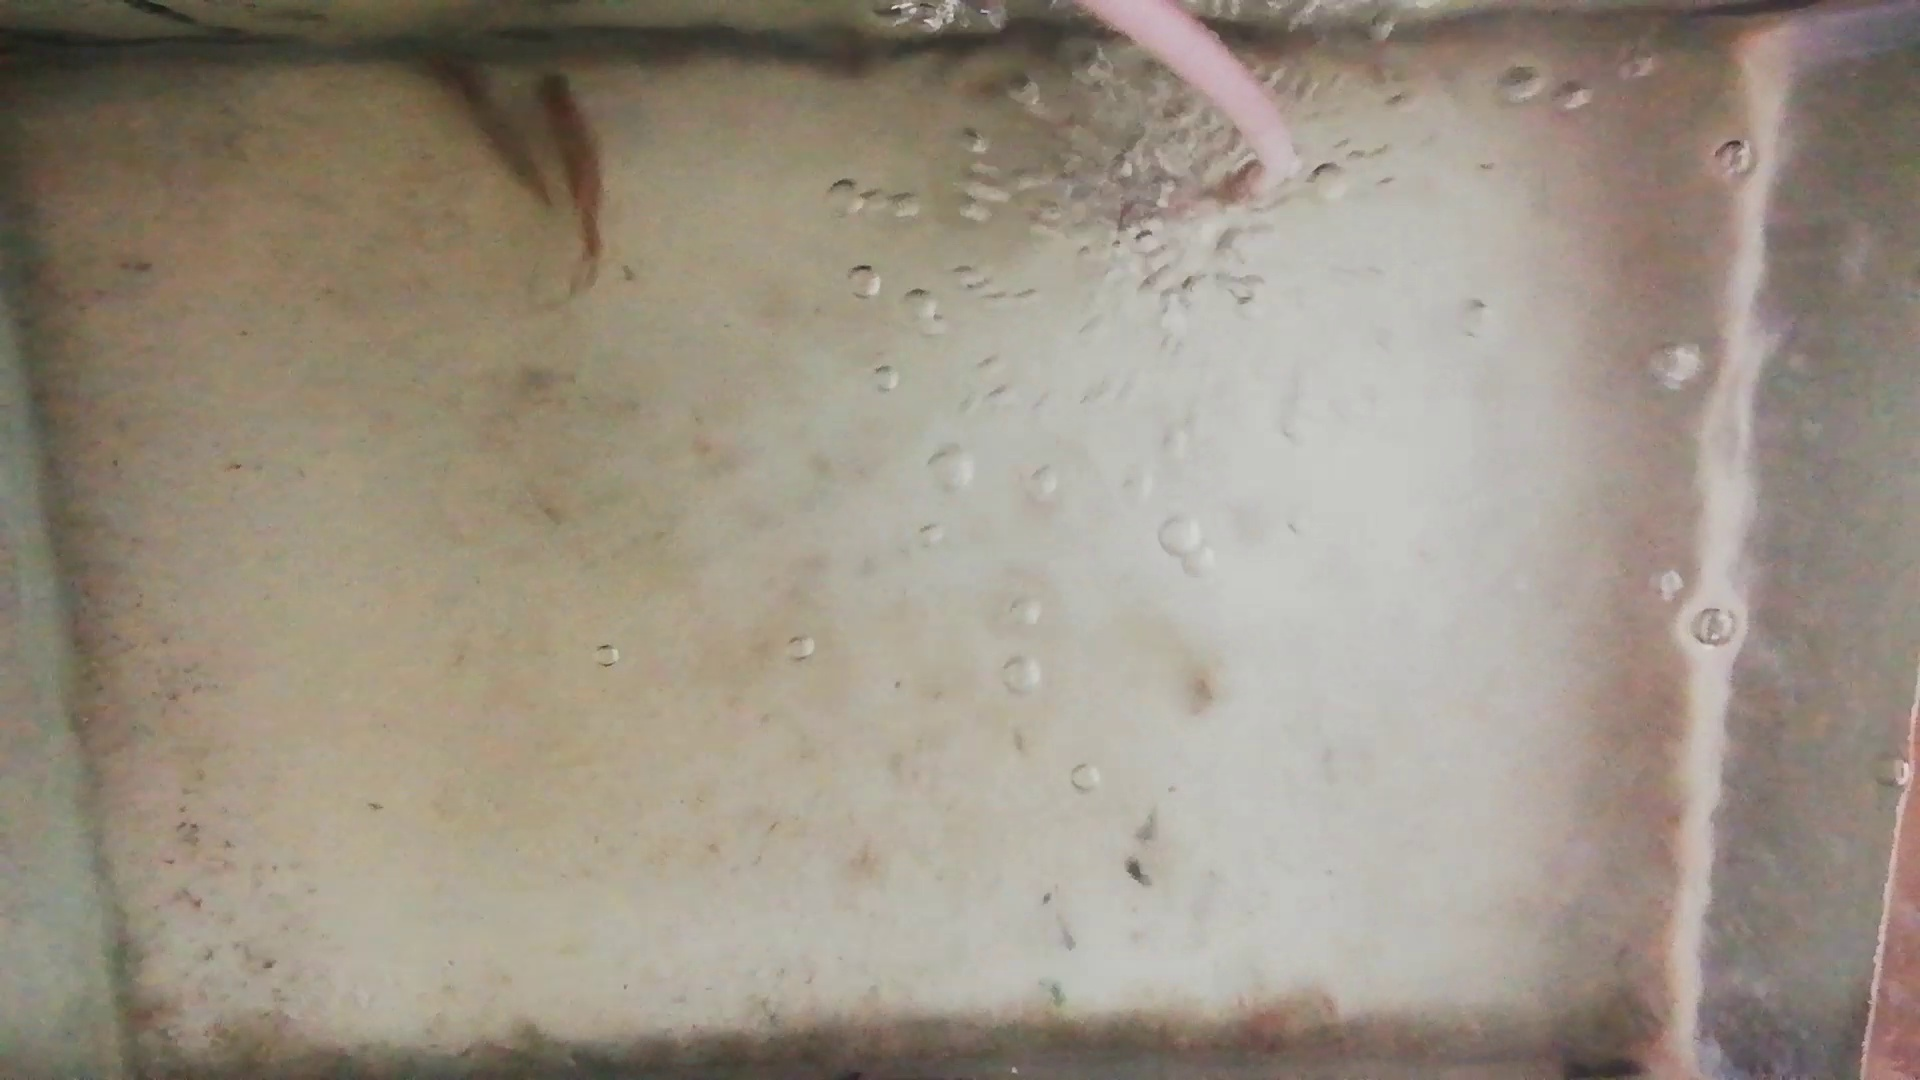fish: (422, 41, 551, 228), (539, 58, 603, 258)
